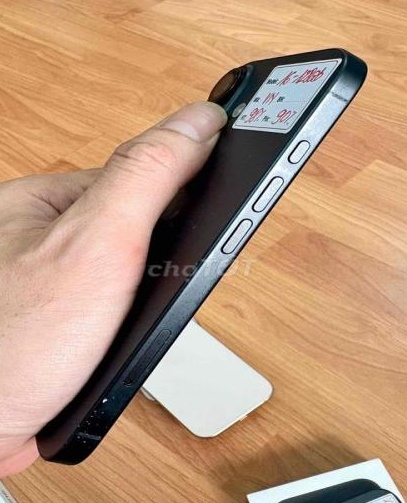scratch: (56, 390, 146, 465), (174, 251, 233, 328), (188, 216, 212, 233), (239, 148, 267, 158)
